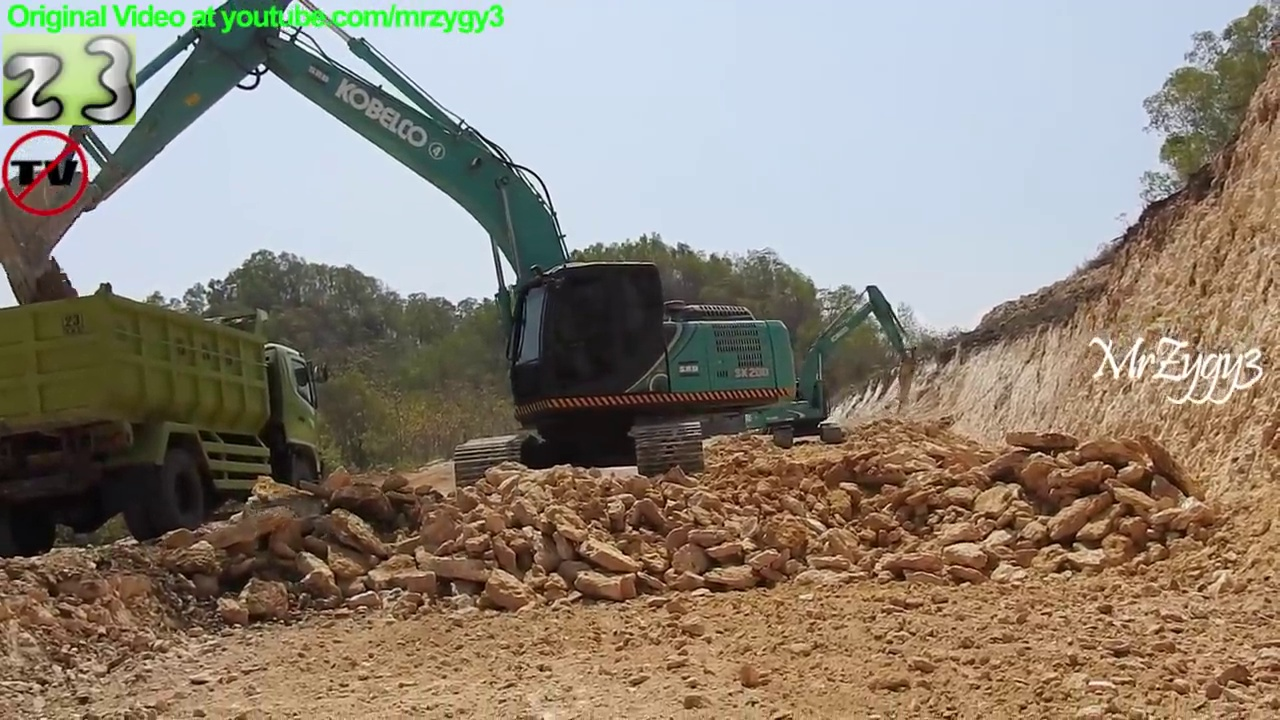excavator: (1, 1, 802, 505), (743, 282, 924, 450)
truck: (1, 277, 336, 569)
